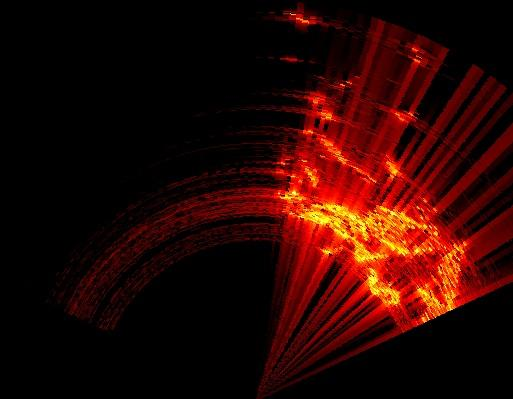shipwreck: (281, 103, 483, 320)
